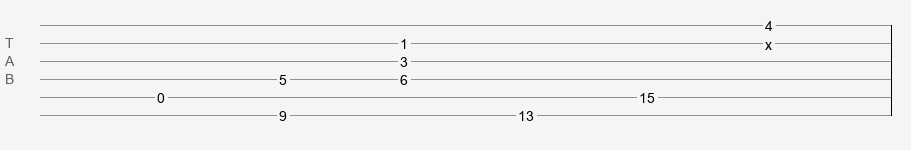0: (157, 90, 165, 100)
1: (400, 36, 408, 46)
13: (518, 108, 534, 118)
15: (639, 90, 655, 100)
3: (400, 54, 408, 64)
4: (765, 18, 773, 28)
5: (279, 72, 287, 82)
6: (400, 72, 408, 82)
9: (279, 108, 287, 118)
x: (765, 37, 772, 45)
